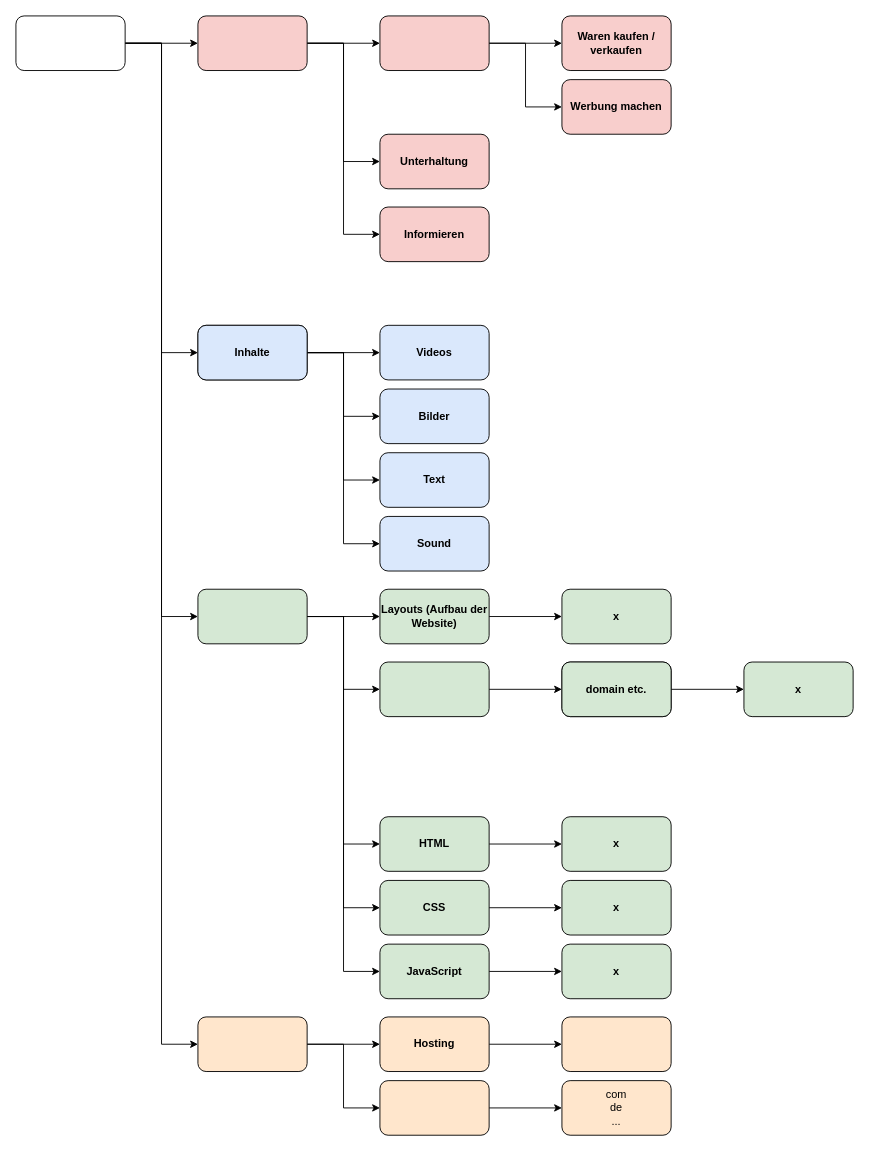
Image size: 869x1151. Some labels were removed from this diagram. The shapes that lost their labels are listed below. From the top down, each one's centre as x and y in pixels, then its label:
At (x=70, y=43): "Website".
At (x=252, y=43): "Verwendungszweck".
At (x=434, y=43): "Wirtschaftlich".
At (x=252, y=616): "Software".
At (x=434, y=689): "Link".
At (x=252, y=1044): "Hosting, Domain".
At (x=616, y=1044): "Jemand der die Website online hält - FÜR MONEYZZZ".
At (x=434, y=1107): "Domain".
